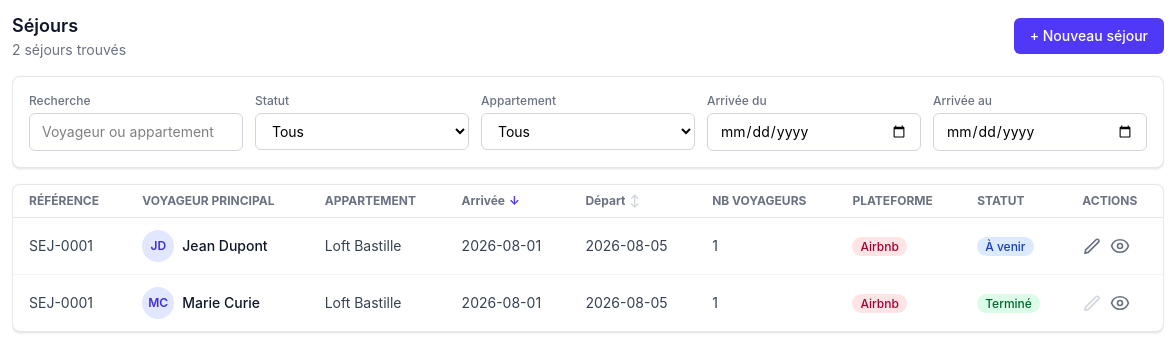
Test case: SejoursListeSection › filtre par statut
Check: the text "2 séjours trouvés" is shown, box x1=12 y1=40 x2=126 y2=60
Select "Checkout effectué" in the dropdown labelled "Statut" at (362, 132), box x1=255 y1=113 x2=469 y2=150
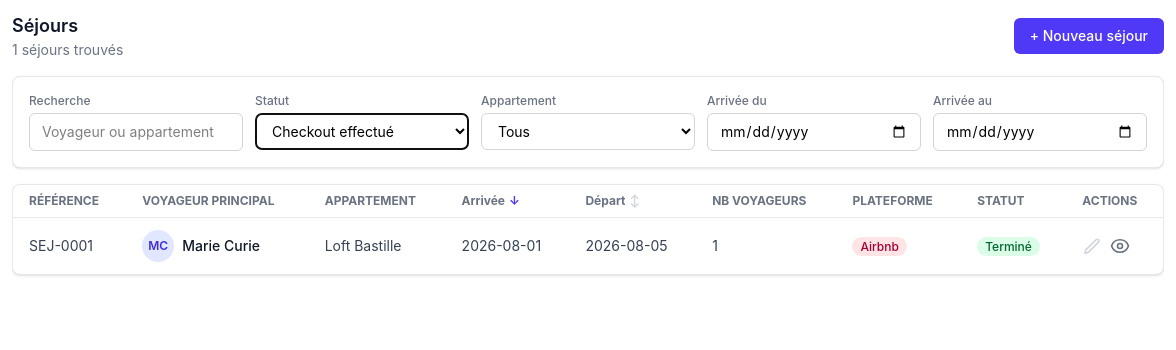
Check: the text "Marie Curie" is shown, box x1=182 y1=236 x2=260 y2=256
Check: the text "1 séjours trouvés" is shown, box x1=12 y1=40 x2=123 y2=60
